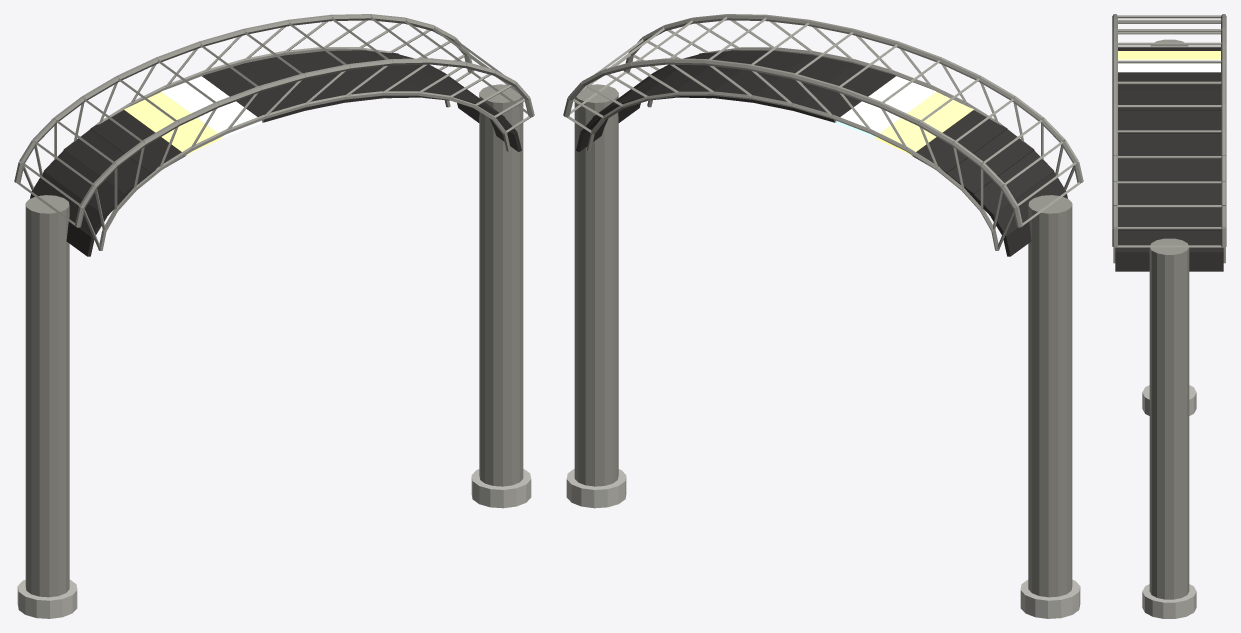
File: downtown_canopy.glb
3 renders of one model, left to right at view 1: azimuth 30°, elevation 25°; view 2: azimuth 150°, elevation 25°; view 3: azimuth 270°, elevation 25°, orthographic. The views are drawn at different scales.
Parts seen in each view (by area): view 1: downtown_canopy; view 2: downtown_canopy; view 3: downtown_canopy.
Part boxes in pixels (box(x1,y1,x2,y2)): downtown_canopy: box(14, 14, 534, 618); downtown_canopy: box(563, 14, 1083, 618); downtown_canopy: box(1112, 14, 1226, 618).
Size of the model in its own units: 14.46 by 13.67 by 3.16.
